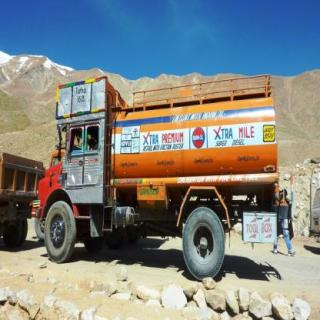Normal_vehicle: (31, 74, 296, 280)
